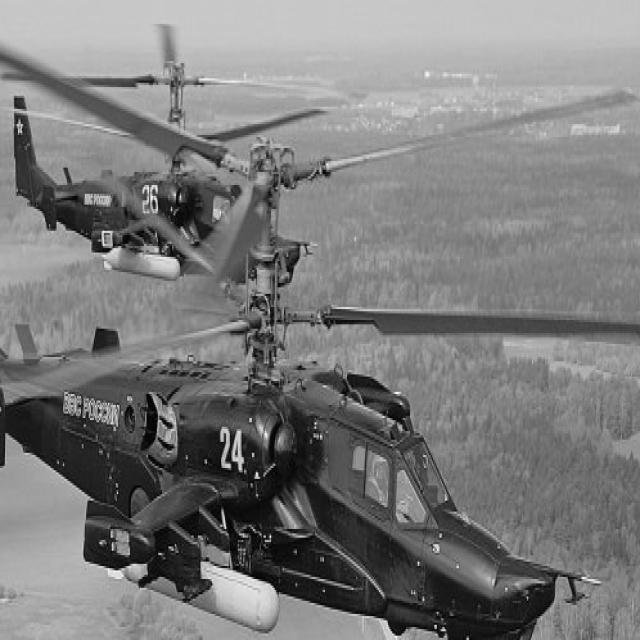helicopter: (1, 166, 609, 640), (1, 3, 482, 306)
